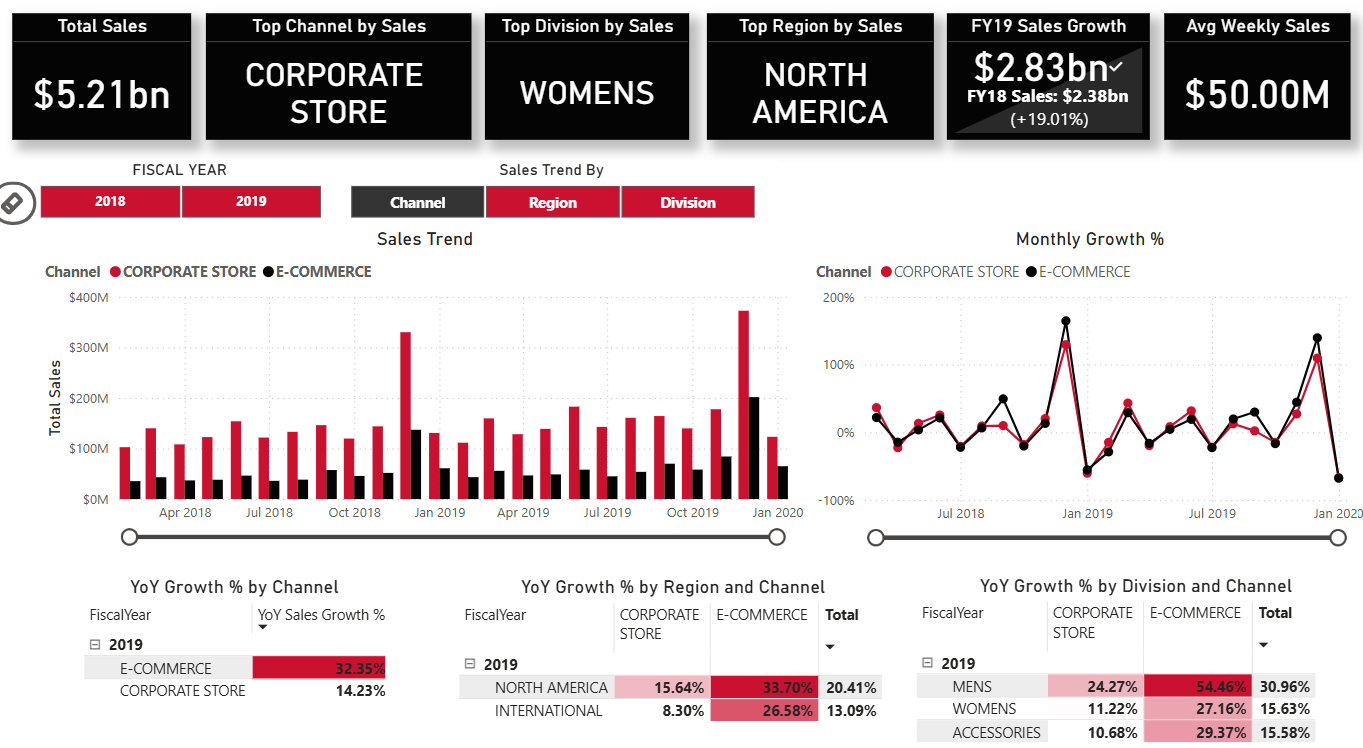

This screenshot's page, from the dashboard's own definition file:
{"tool":"powerbi","page":{"name":"Executive View - Sales","canvas":[1280,720],"ordinal":0},"visuals":[{"type":"clusteredColumnChart","title":"Sales Trend","fields":{"Series":["Sales_Data.Division"],"Y":["Measures_Table.Total Sales"],"Category":["NewDates.Start of Month"]},"box":[45.3,222.3,705.4,293.7],"z":0},{"type":"card","title":"Total Sales","fields":{"Values":["Measures_Table.Total Sales"]},"box":[144.6,17.8,163.3,115.3],"z":1000},{"type":"kpi","title":"FY19 Sales Growth ","fields":{"Indicator":["Measures_Table.Total Sales"],"Goal":["Measures_Table.Previous Year Sales"],"TrendLine":["NewDates.FiscalYear"]},"box":[904.2,17.8,185.3,115.3],"z":2000},{"type":"image","box":[0,12.4,131.7,124.9],"z":3000},{"type":"card","title":"Top Channel by Sales","fields":{"Values":["Min(Sales_Data.Channel)"]},"box":[316.3,17.8,193.5,115.3],"z":4000},{"type":"card","title":"Top Division by Sales","fields":{"Values":["Min(Sales_Data.Division)"]},"box":[518.2,17.8,179.8,115.3],"z":5000},{"type":"card","title":"Top Region by Sales","fields":{"Values":["Min(Sales_Data.Region)"]},"box":[706.4,17.8,189.4,115.3],"z":6000},{"type":"slicer","title":"FISCAL YEAR","fields":{"Values":["NewDates.FiscalYear"]},"box":[20.6,160.6,306,59],"z":7000},{"type":"actionButton","box":[0,179.8,42.5,39.8],"z":8000},{"type":"lineChart","title":"Monthly Growth %","fields":{"Series":["Sales_Data.Division"],"Y":["Measures_Table.MoM Sales Growth %"],"Category":["NewDates.Start of Month"]},"box":[751.3,222.1,511.9,294.5],"z":9000},{"type":"slicer","title":"Sales Trend By","fields":{"Values":["Fields Parameter.Fields Parameter"]},"box":[304.7,160.6,418.6,59],"z":10000},{"type":"pivotTable","title":"YoY Growth % by Channel","fields":{"Rows":["NewDates.FiscalYear","Sales_Data.Channel"],"Values":["Measures_Table.YoY Sales Growth %"]},"box":[80.6,540.3,294.4,180.6],"z":11000},{"type":"pivotTable","title":"YoY Growth %  by Region and Channel","fields":{"Rows":["NewDates.FiscalYear","Sales_Data.Region"],"Values":["Measures_Table.YoY Sales Growth %"],"Columns":["Sales_Data.Channel"]},"box":[424,540.7,402.1,179.8],"z":12000},{"type":"pivotTable","title":"YoY Growth %  by Division and Channel","fields":{"Values":["Measures_Table.YoY Sales Growth %"],"Columns":["Sales_Data.Channel"],"Rows":["NewDates.FiscalYear","Sales_Data.Division"]},"box":[842.6,539.3,411.7,179.8],"z":13000},{"type":"card","title":"Avg Weekly Sales","fields":{"Values":["Measures_Table.Avg Weekly Sales"]},"box":[1097.5,17.8,182.5,115.3],"z":14000}]}

Visuals, with their boxes in screenshot pixels (x1, y1, x2, y2), scaled from the page's 1280x720 canvas onto the 1363x748 screenshot:
"Sales Trend" clusteredColumnChart: box=[48, 231, 799, 536]
"Total Sales" card: box=[154, 18, 328, 138]
"FY19 Sales Growth " kpi: box=[963, 18, 1160, 138]
image: box=[0, 13, 140, 143]
"Top Channel by Sales" card: box=[337, 18, 543, 138]
"Top Division by Sales" card: box=[552, 18, 743, 138]
"Top Region by Sales" card: box=[752, 18, 954, 138]
"FISCAL YEAR" slicer: box=[22, 167, 348, 228]
actionButton: box=[0, 187, 45, 228]
"Monthly Growth %" lineChart: box=[800, 231, 1345, 537]
"Sales Trend By" slicer: box=[324, 167, 770, 228]
"YoY Growth % by Channel" pivotTable: box=[86, 561, 399, 747]
"YoY Growth %  by Region and Channel" pivotTable: box=[451, 562, 880, 747]
"YoY Growth %  by Division and Channel" pivotTable: box=[897, 560, 1336, 747]
"Avg Weekly Sales" card: box=[1169, 18, 1362, 138]
